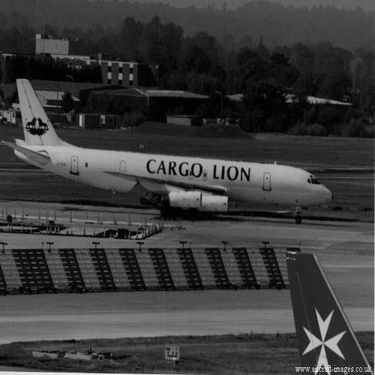airplane: (1, 75, 338, 223), (281, 240, 370, 372)
